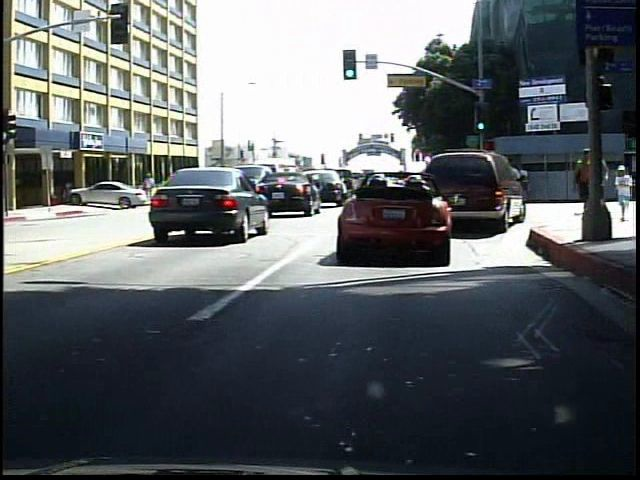person: (566, 145, 592, 223), (605, 165, 632, 222), (138, 171, 156, 205)
